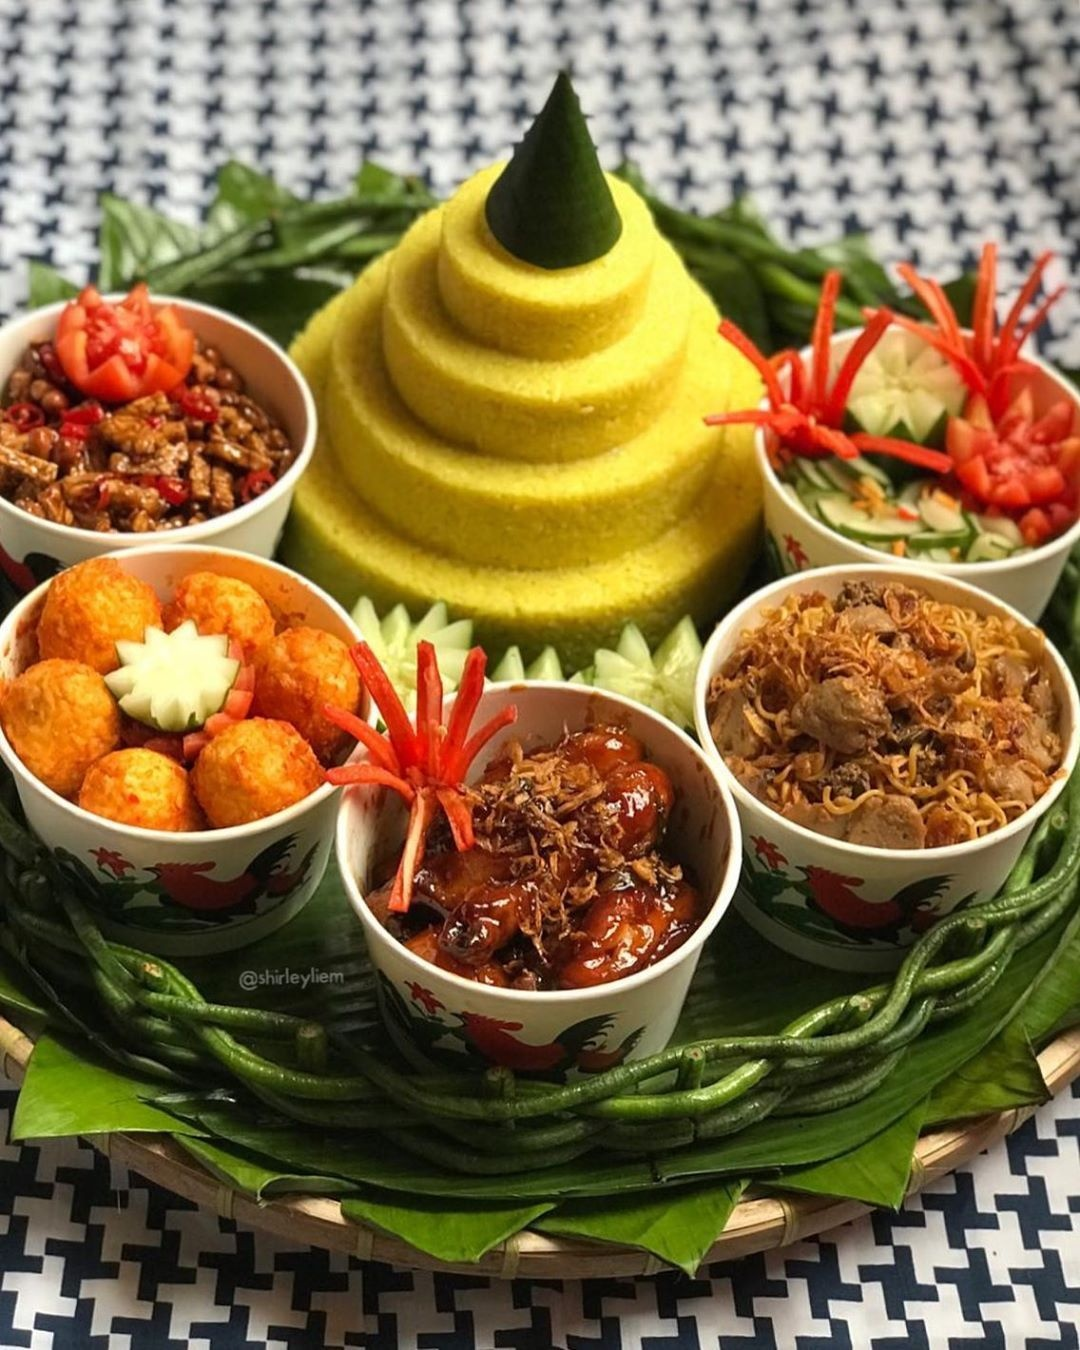tumpeng: (358, 43, 732, 360)
